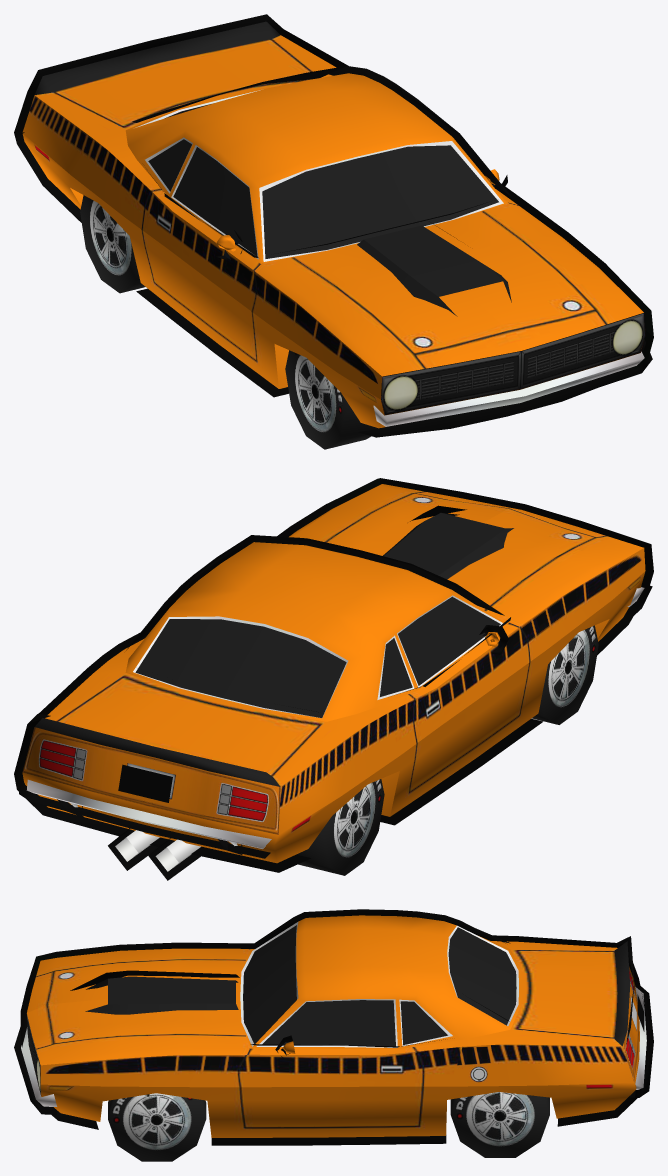
File: Car2.fbx
3 renders of one model, top to bottom at view 1: azimuth 30°, elevation 25°; view 2: azimuth 150°, elevation 25°; view 3: azimuth 270°, elevation 25°, orthographic. The views are drawn at different scales.
Visible parts, largest first — view 1: Car2, Front_Right_Wheel, Rear_Right_Wheel; view 2: Car2, Rear_Right_Wheel, Front_Right_Wheel; view 3: Car2, Front_Left_Wheel, Rear_Left_Wheel.
Boxes of the visible parts, x1,y1,x2,y2 form: Car2: (14, 14, 653, 437); Front_Right_Wheel: (285, 350, 380, 449); Rear_Right_Wheel: (80, 195, 145, 293); Car2: (14, 478, 653, 880); Rear_Right_Wheel: (296, 779, 384, 875); Front_Right_Wheel: (532, 625, 598, 724); Car2: (14, 909, 653, 1145); Front_Left_Wheel: (108, 1093, 206, 1161); Rear_Left_Wheel: (450, 1092, 549, 1157).
Bounding box in the file's own units: 8.04 × 5.4 × 18.41.
